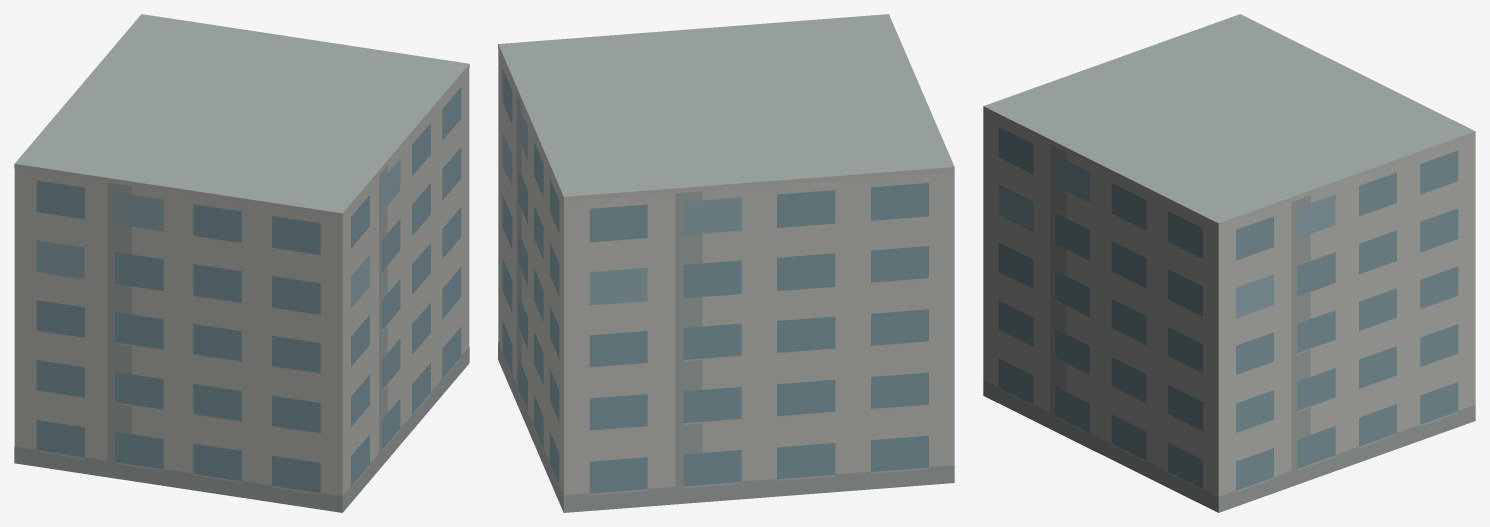
File: residential-08781f75-32bb-4faa-b6bf-100c2c8c36fd.glb
3 renders of one model, left to right at view 1: azimuth 30°, elevation 25°; view 2: azimuth 150°, elevation 25°; view 3: azimuth 270°, elevation 25°, orthographic. The views are drawn at different scales.
Parts seen in each view (by area): view 1: residential-08781f75-32bb-4faa-b6bf-100c2c8c36fd.tmp; view 2: residential-08781f75-32bb-4faa-b6bf-100c2c8c36fd.tmp; view 3: residential-08781f75-32bb-4faa-b6bf-100c2c8c36fd.tmp.
Part boxes in pixels (x1,y1,x2,y2): residential-08781f75-32bb-4faa-b6bf-100c2c8c36fd.tmp: [14, 14, 469, 512]; residential-08781f75-32bb-4faa-b6bf-100c2c8c36fd.tmp: [498, 14, 954, 512]; residential-08781f75-32bb-4faa-b6bf-100c2c8c36fd.tmp: [983, 14, 1475, 512].
Size of the model in its own units: 23.66 by 15.25 by 23.51.
